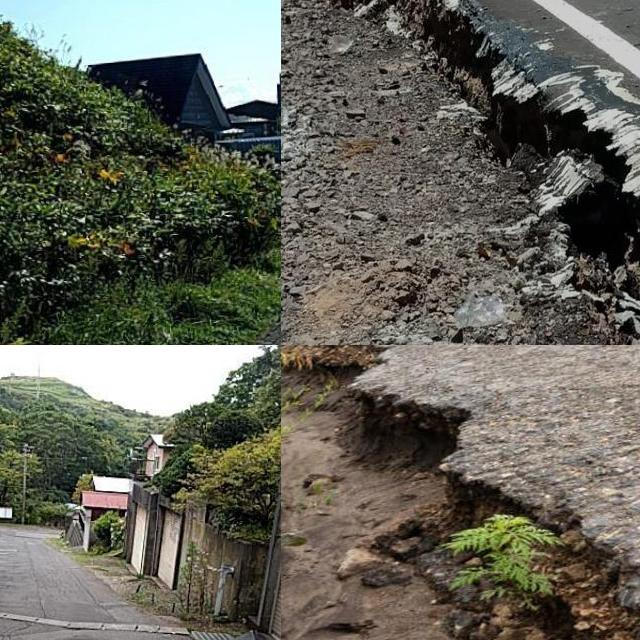Pinggir: (281, 345, 640, 640), (353, 0, 640, 345)
